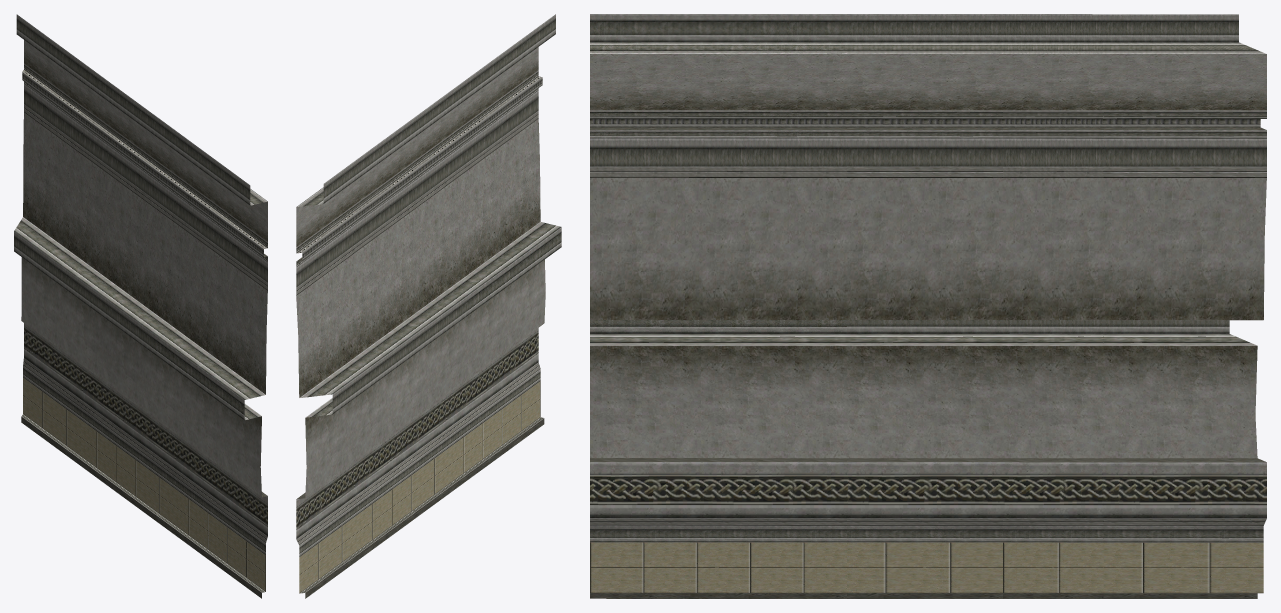
Rendered from DWARF_PALACE_GEAR_ROOM_WALL01A.fbx.
The picture shows the model from 3 angles, left to right: view 1: azimuth 30°, elevation 25°; view 2: azimuth 150°, elevation 25°; view 3: azimuth 270°, elevation 25°; orthographic projection. The views are drawn at different scales.
Parts seen in each view (by area): view 1: DWARF_PALACE_GEAR_ROOM_WALL01A; view 2: DWARF_PALACE_GEAR_ROOM_WALL01A; view 3: DWARF_PALACE_GEAR_ROOM_WALL01A.
Part boxes in pixels (bbox=[...]): DWARF_PALACE_GEAR_ROOM_WALL01A: bbox=[14, 14, 267, 598]; DWARF_PALACE_GEAR_ROOM_WALL01A: bbox=[296, 14, 561, 598]; DWARF_PALACE_GEAR_ROOM_WALL01A: bbox=[590, 14, 1266, 598].
Bounding box in the file's own units: 12132 × 205001 × 217969.
Materials: 7 (7 with a texture image).
